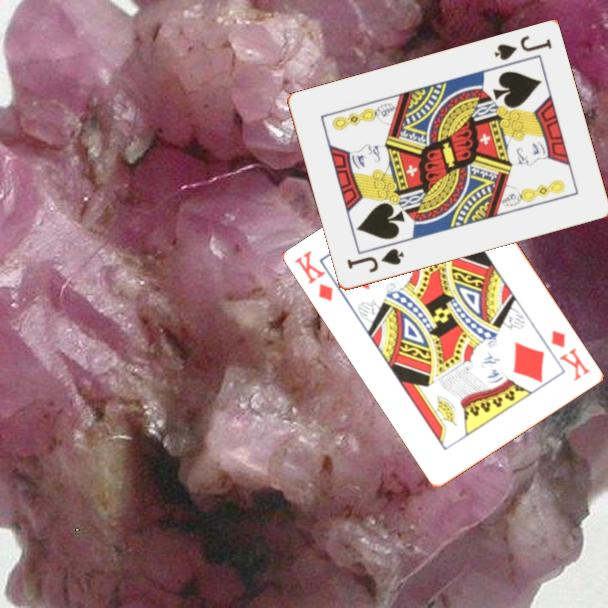d13: (548, 326, 594, 384), (291, 247, 336, 305)
s11: (490, 32, 555, 64), (343, 245, 407, 276)
